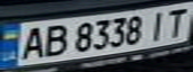3: (90, 17, 112, 51), (109, 15, 130, 47)
8: (72, 19, 96, 53), (124, 11, 148, 45)
A: (15, 24, 48, 61)
B: (39, 21, 72, 59)
I: (145, 8, 172, 41)
T: (160, 6, 193, 38)
